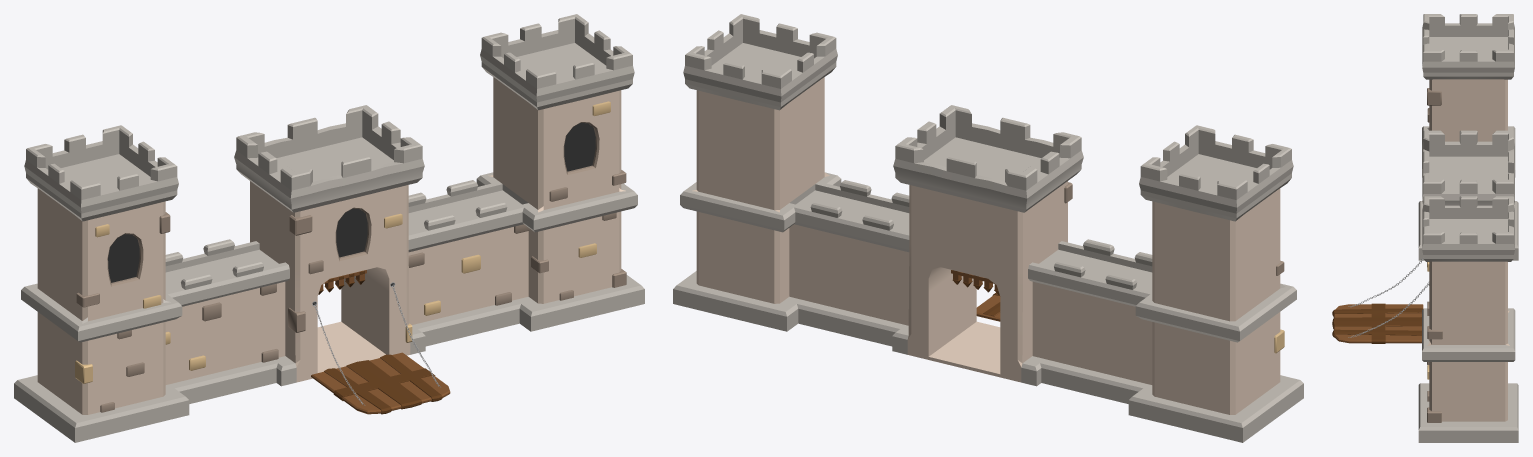
Rendered from Castle Entrance.fbx.
3 views of the same model, side by side, from view 1: azimuth 30°, elevation 25°; view 2: azimuth 150°, elevation 25°; view 3: azimuth 270°, elevation 25° (orthographic). The views are drawn at different scales.
Visible parts, largest first — view 1: Cube.006; view 2: Cube.006; view 3: Cube.006.
Part boxes in pixels (x1,y1,x2,y2): Cube.006: [14, 14, 644, 442]; Cube.006: [673, 14, 1303, 442]; Cube.006: [1332, 14, 1518, 442].
Size of the model in its own units: 2568 by 3120 by 7431.
